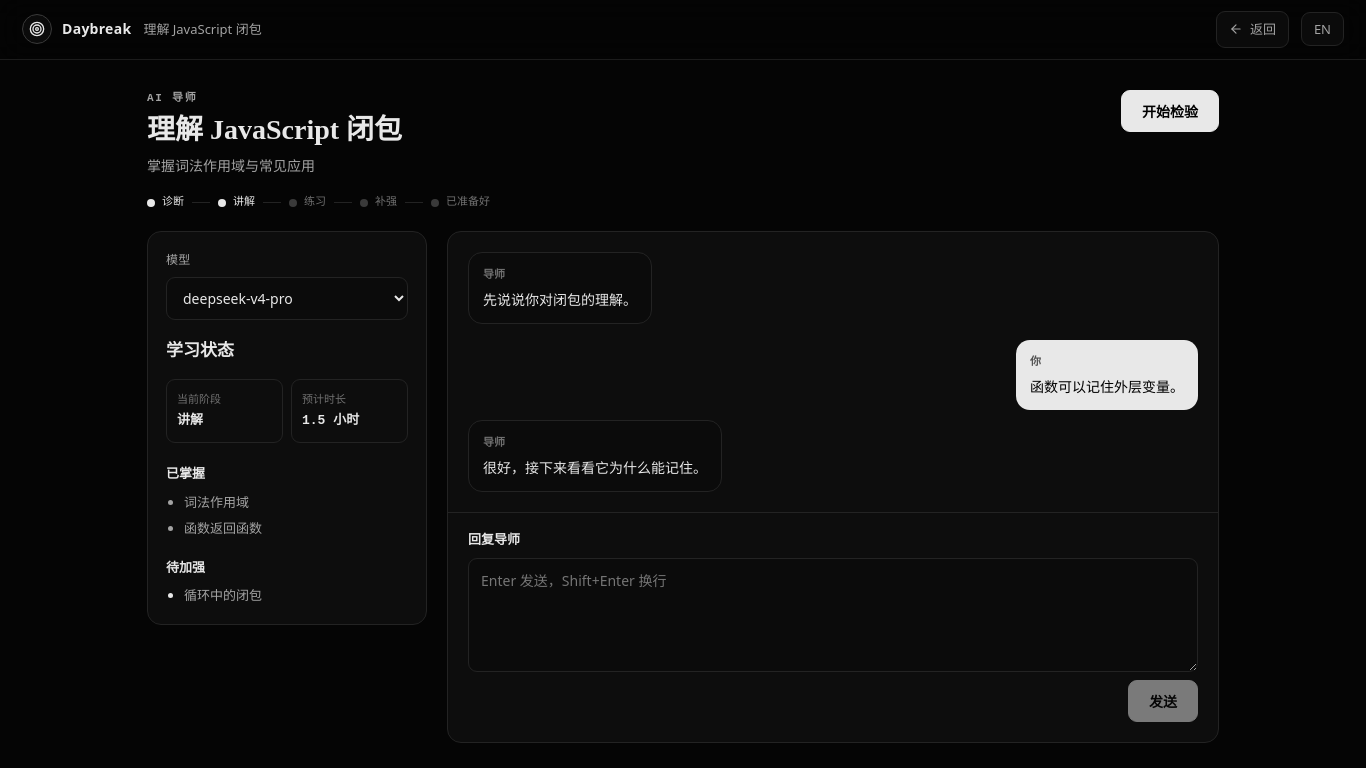
Test case: LearningPage › marks verification passed and disables the action
Click the button "开始检验": (1170, 111) [1121, 90, 1219, 132]
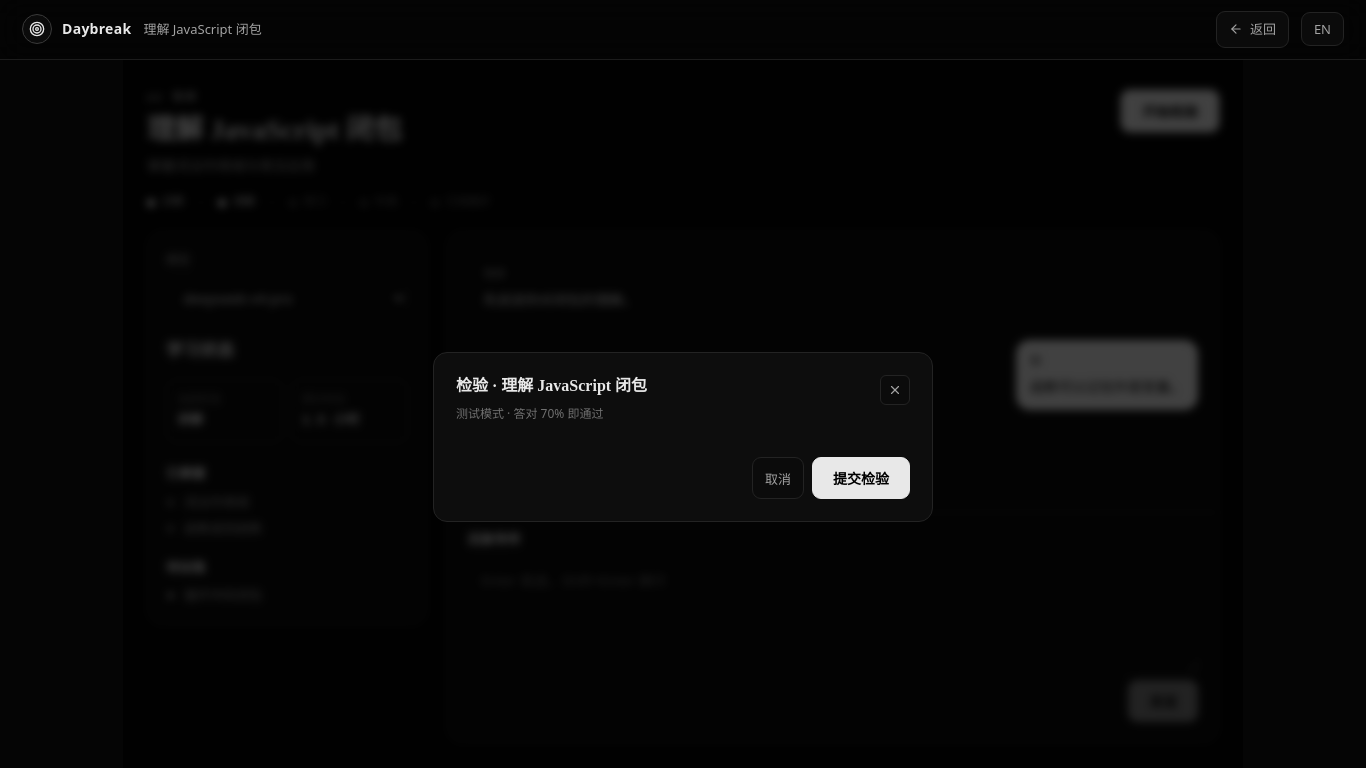
Click the button "提交检验": (861, 478) [812, 457, 910, 499]
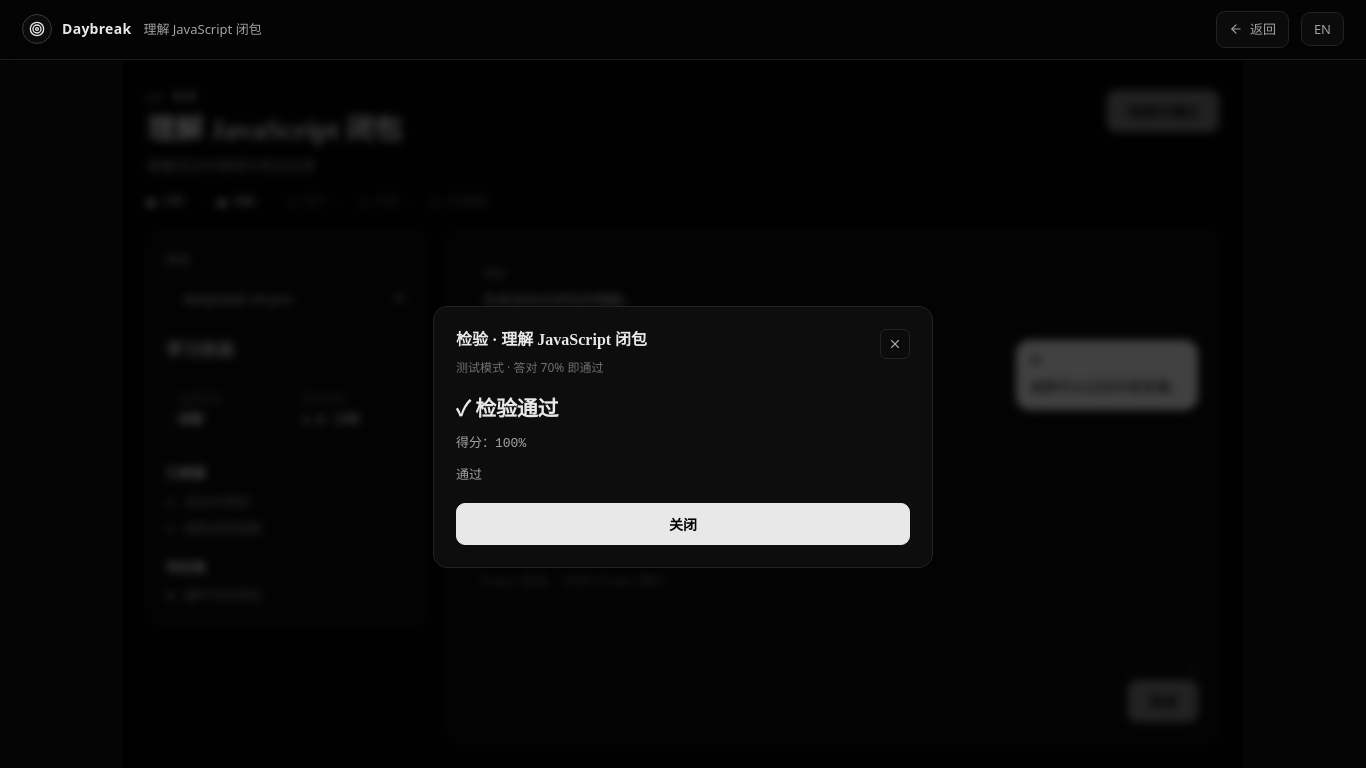
Result: the button "检验已通过" is disabled at [1107, 90, 1219, 132]
